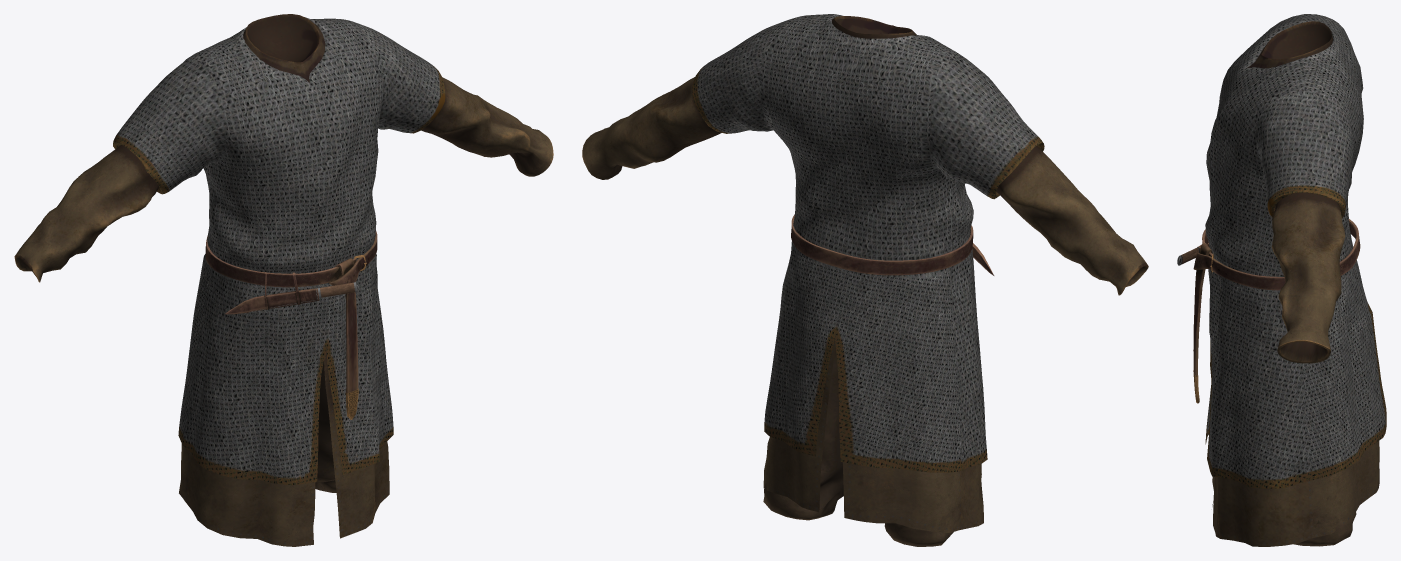
Rendered from cts_rohan_armor11.fbx.
3 renders of one model, left to right at view 1: azimuth 30°, elevation 25°; view 2: azimuth 150°, elevation 25°; view 3: azimuth 270°, elevation 25°, orthographic. The views are drawn at different scales.
Visible parts, largest first — view 1: cts_rohan_armor11; view 2: cts_rohan_armor11; view 3: cts_rohan_armor11.
Boxes of the visible parts, bbox=[...] form: cts_rohan_armor11: bbox=[14, 14, 553, 546]; cts_rohan_armor11: bbox=[582, 14, 1148, 546]; cts_rohan_armor11: bbox=[1177, 14, 1386, 546].
Bounding box in the file's own units: 1.36 × 0.4672 × 1.19.
1 material, 1 textured.
